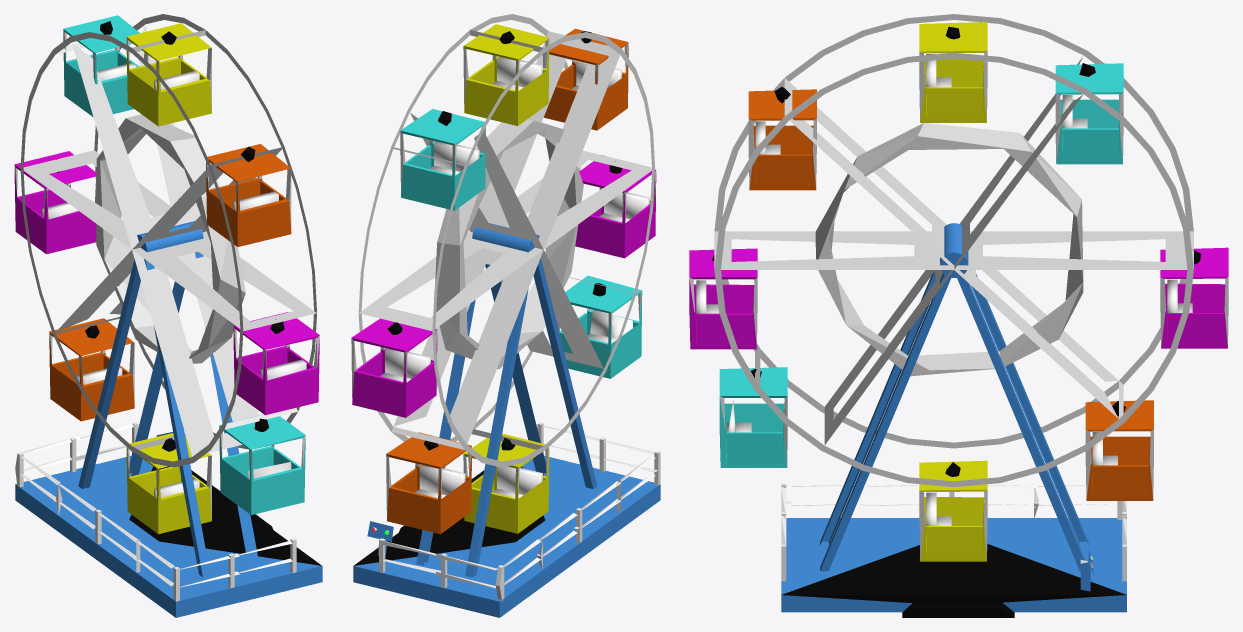
File: Ferris Wheel.glb
3 views of the same model, side by side, from view 1: azimuth 30°, elevation 25°; view 2: azimuth 150°, elevation 25°; view 3: azimuth 270°, elevation 25° (orthographic). The views are drawn at different scales.
Parts seen in each view (by area): view 1: Wheel, Supports, Cab.005, Cab.006, Cab.003, Cab.002, Cab.007, Cab, Cab.001, Fences, Cab.004; view 2: Wheel, Supports, Cab.004, Cab.001, Cab.007, Cab.003, Cab.006, Cab, Cab.002, Fences, Cab.005, Controls; view 3: Wheel, Supports, Cab.003, Cab, Cab.006, Cab.007, Cab.004, Cab.002, Cab.005, Cab.001, Fences, Cab Door.007 (+7 smaller).
Part boxes in pixels (x1,y1,x2,y2): Wheel: (20, 14, 316, 467); Supports: (15, 221, 322, 617); Cab.005: (206, 144, 291, 246); Cab.006: (219, 414, 305, 515); Cab.003: (126, 23, 211, 126); Cab.002: (233, 312, 319, 415); Cab.007: (49, 318, 134, 421); Cab: (126, 433, 211, 534); Cab.001: (14, 151, 96, 254); Fences: (15, 422, 296, 601); Cab.004: (63, 15, 148, 116); Wheel: (358, 14, 655, 467); Supports: (353, 223, 660, 617); Cab.004: (400, 109, 485, 210); Cab.001: (351, 318, 437, 417); Cab.007: (386, 432, 471, 534); Cab.003: (463, 24, 549, 125); Cab.006: (556, 275, 642, 378); Cab: (463, 433, 549, 533); Cab.002: (575, 155, 656, 258); Fences: (379, 422, 660, 601); Cab.005: (542, 28, 628, 130); Controls: (367, 521, 393, 556); Wheel: (712, 14, 1200, 487); Supports: (781, 223, 1126, 617); Cab.003: (919, 22, 987, 122); Cab: (919, 460, 987, 561); Cab.006: (719, 367, 787, 467); Cab.007: (1085, 400, 1153, 500); Cab.004: (1055, 63, 1123, 164); Cab.002: (689, 248, 757, 349); Cab.005: (748, 89, 816, 190); Cab.001: (1160, 247, 1228, 348); Fences: (781, 483, 1126, 581); Cab Door.007: (1092, 465, 1149, 497).
Size of what is drawn, in the model's own units: 6.7 by 20.73 by 18.52.
